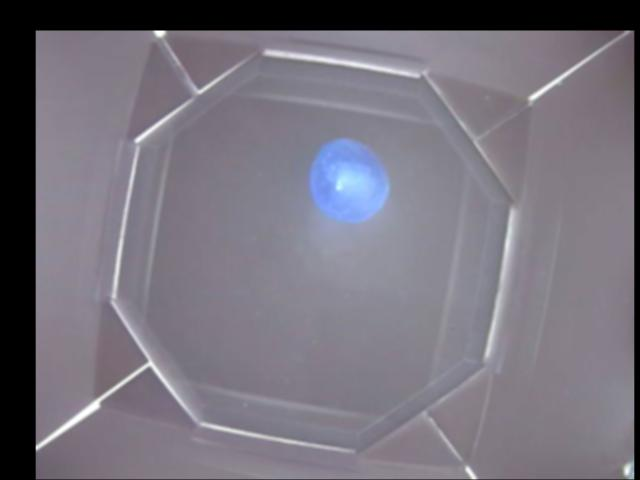Potato: (311, 137, 388, 223)
